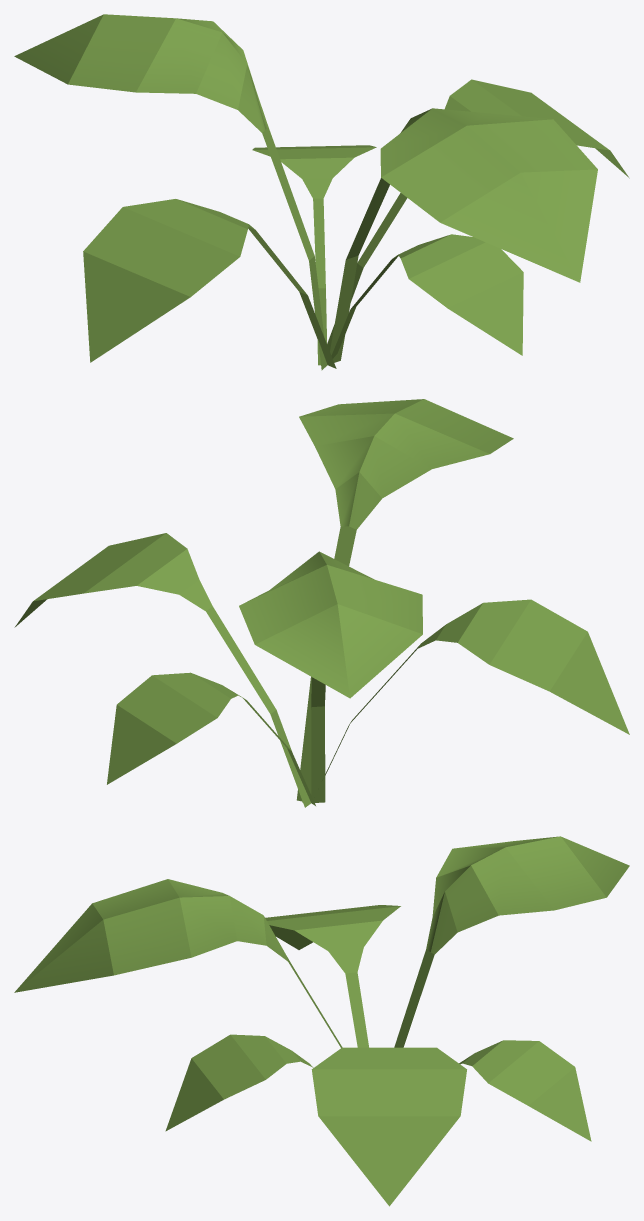
File: grass_02.fbx
3 renders of one model, top to bottom at view 1: azimuth 30°, elevation 25°; view 2: azimuth 150°, elevation 25°; view 3: azimuth 270°, elevation 25°, orthographic. The views are drawn at different scales.
Visible parts, largest first — view 1: grass_02; view 2: grass_02; view 3: grass_02.
Part boxes in pixels (x1,y1,x2,y2): grass_02: (14, 14, 629, 370); grass_02: (14, 399, 629, 807); grass_02: (14, 836, 629, 1206).
Size of the model in its own units: 82.4 by 42.43 by 82.64.
